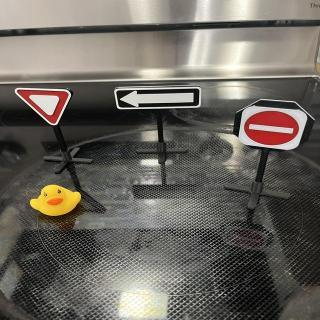duck_regular: (30, 186, 83, 218)
sign_noentry: (236, 104, 311, 152)
sign_oneway_left: (115, 88, 203, 112)
sign_yield: (16, 89, 74, 131)
